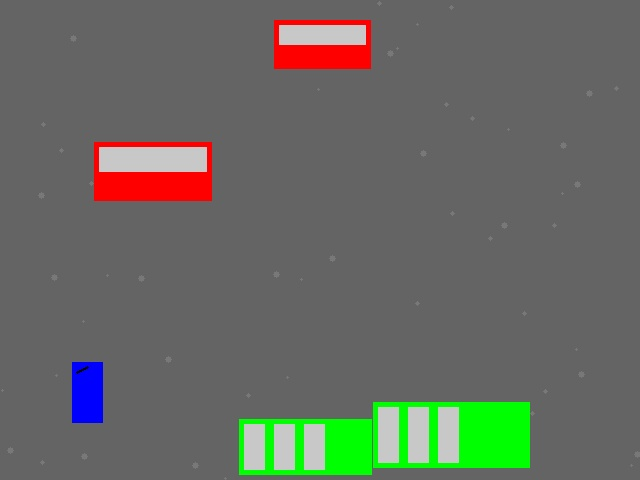bus: (373, 402, 529, 467), (239, 419, 371, 474)
car: (94, 142, 211, 200), (274, 20, 370, 68)
motorcycle: (72, 362, 102, 422)
